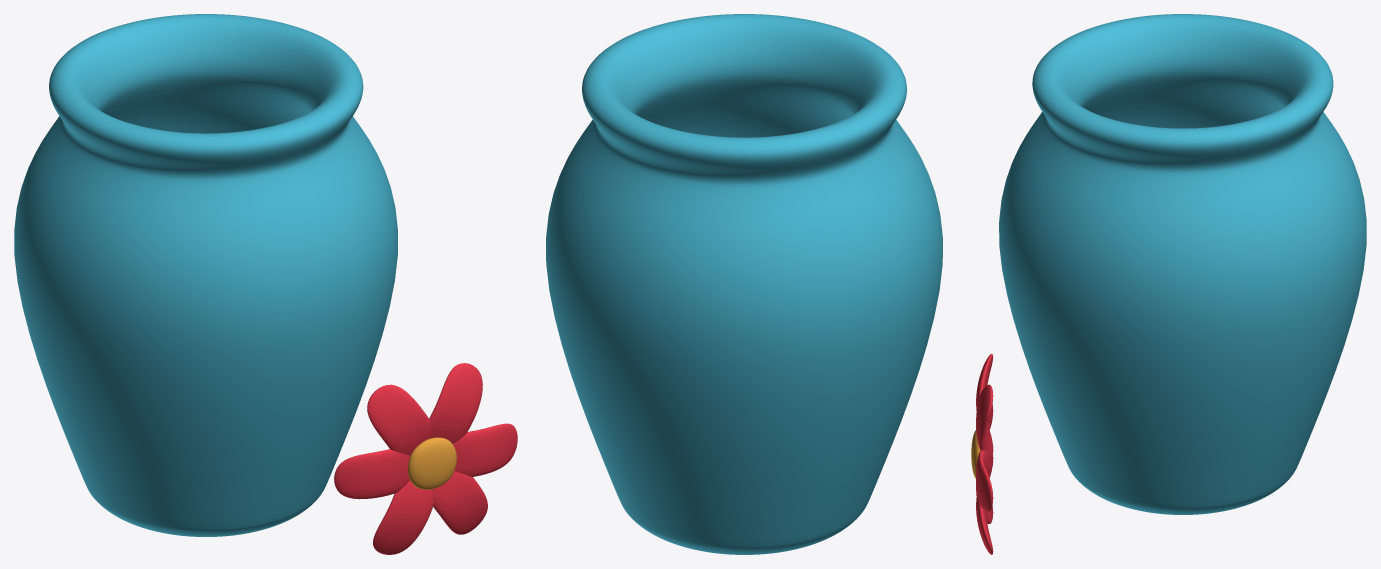
The model's file is culture-experience-animated-3d-icon-62328194664.glb.
3 renders of one model, left to right at view 1: azimuth 30°, elevation 25°; view 2: azimuth 150°, elevation 25°; view 3: azimuth 270°, elevation 25°, orthographic. The views are drawn at different scales.
Parts seen in each view (by area): view 1: Urn, Petals, Core; view 2: Urn; view 3: Urn, Petals.
Boxes of the visible parts, x1,y1,x2,y2 form: Urn: (14, 14, 397, 536); Petals: (334, 363, 517, 554); Core: (408, 437, 456, 489); Urn: (546, 14, 942, 554); Urn: (999, 14, 1366, 514); Petals: (976, 354, 993, 554).
Size of the model in its own units: 1.97 by 2.12 by 1.86.
